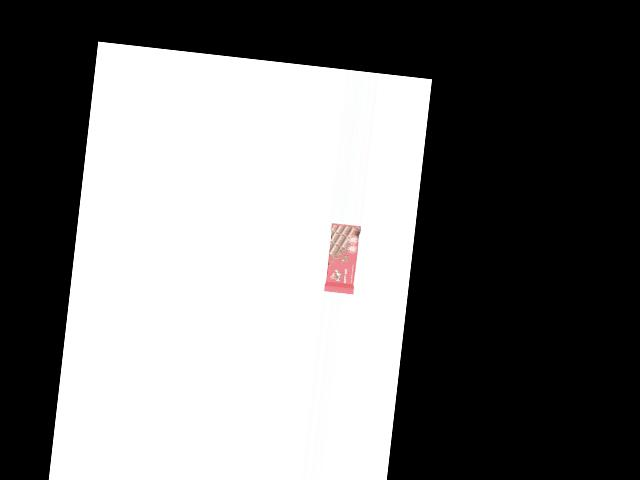chocolate: (324, 222, 361, 296)
